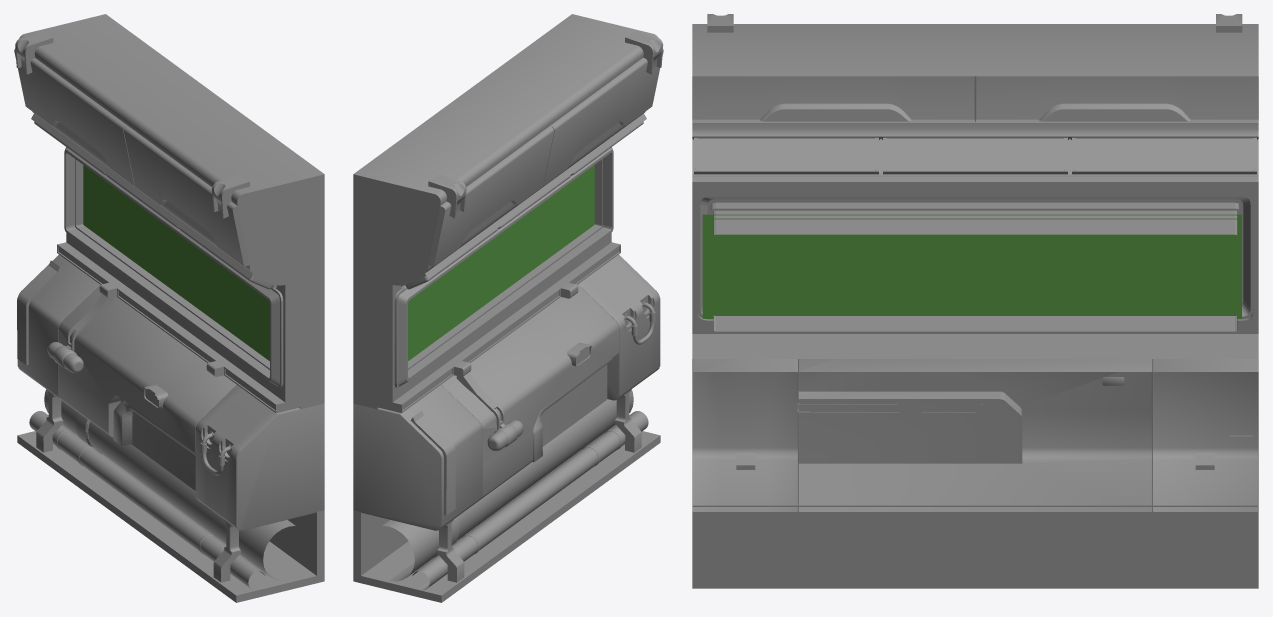
File: SM_window_4.FBX
3 views of the same model, side by side, from view 1: azimuth 30°, elevation 25°; view 2: azimuth 150°, elevation 25°; view 3: azimuth 270°, elevation 25° (orthographic). The views are drawn at different scales.
Visible parts, largest first — view 1: window_low003; view 2: window_low003; view 3: window_low003.
Boxes of the visible parts, x1,y1,x2,y2 form: window_low003: [14, 14, 324, 602]; window_low003: [353, 14, 663, 602]; window_low003: [692, 14, 1258, 588].
Size of the model in its own units: 0.8252 by 3.12 by 3.
